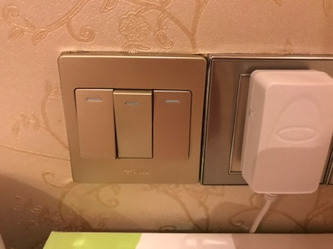switch: (72, 84, 119, 163), (111, 86, 155, 163), (152, 86, 192, 162)
